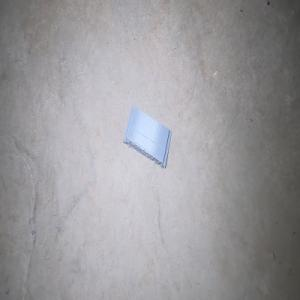PlasticPart: (122, 105, 172, 169)
